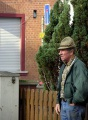male: (52, 34, 81, 67)
